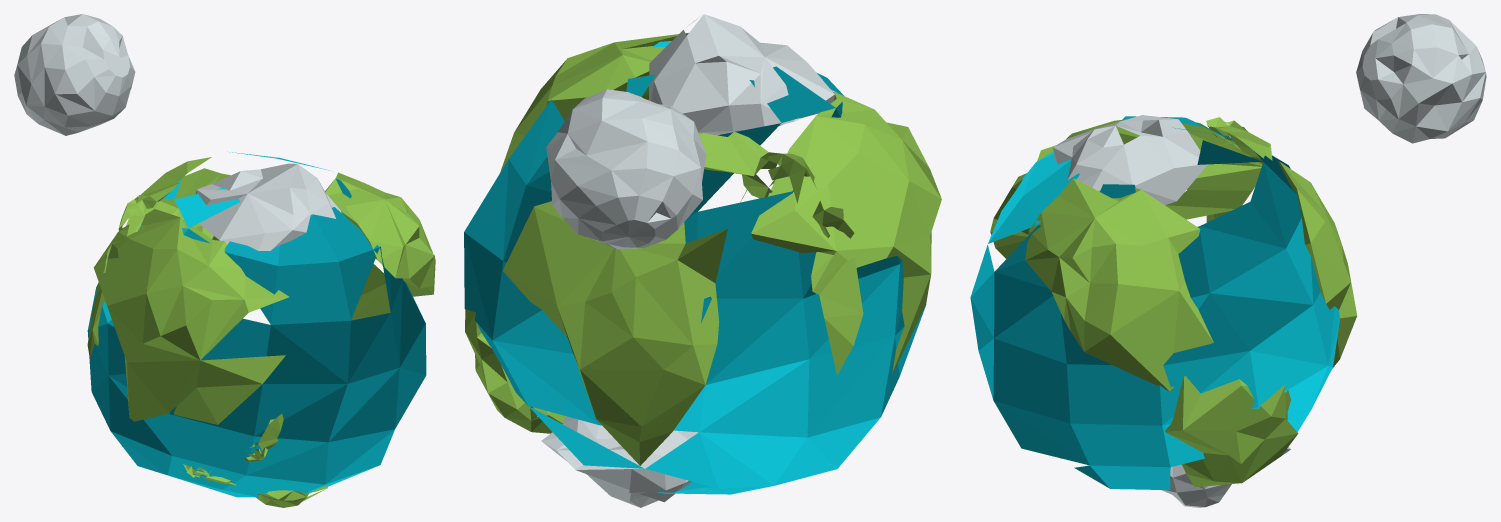
File: Earth and Moon.glb
3 renders of one model, left to right at view 1: azimuth 30°, elevation 25°; view 2: azimuth 150°, elevation 25°; view 3: azimuth 270°, elevation 25°, orthographic. The views are drawn at different scales.
Parts seen in each view (by area): view 1: Node; view 2: Node; view 3: Node.
Boxes of the visible parts, left/top/right/bottom form: Node: left=14, top=14, right=435, bottom=507; Node: left=464, top=14, right=941, bottom=507; Node: left=970, top=14, right=1486, bottom=507.
Bounding box in the file's own units: 0.352 × 0.4457 × 0.4712.
